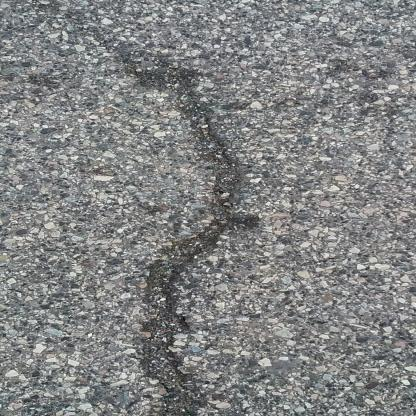Cracks: (119, 49, 259, 416)
